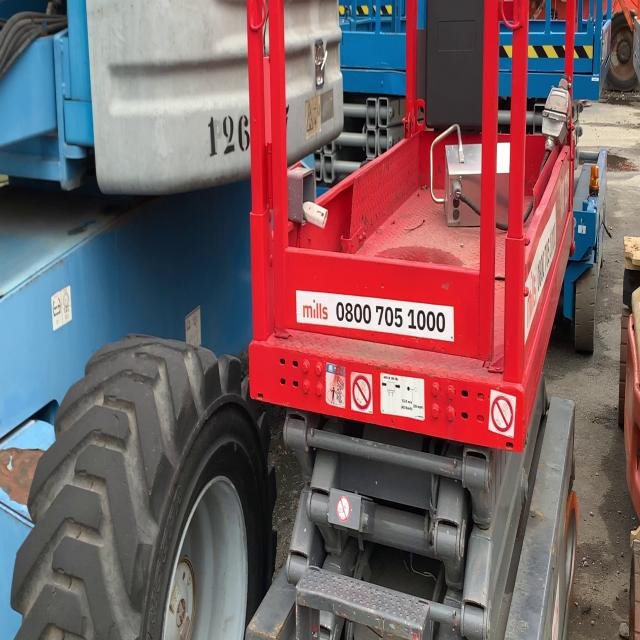Adesivo Longo: (294, 288, 455, 346), (524, 199, 557, 346)
